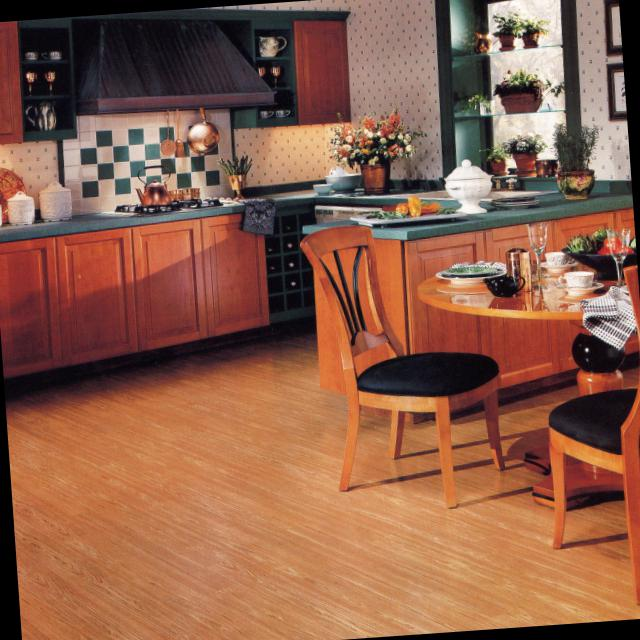chair -occluded-: (297, 225, 502, 505)
cup and saucer: (557, 270, 593, 287), (543, 251, 571, 265)
cupboard crop: (295, 22, 351, 123)
painting crop: (605, 62, 626, 120), (603, 0, 621, 55)
pot on a stand: (332, 111, 419, 189)
stove burner: (105, 191, 236, 216)
teapot: (479, 271, 523, 293)
